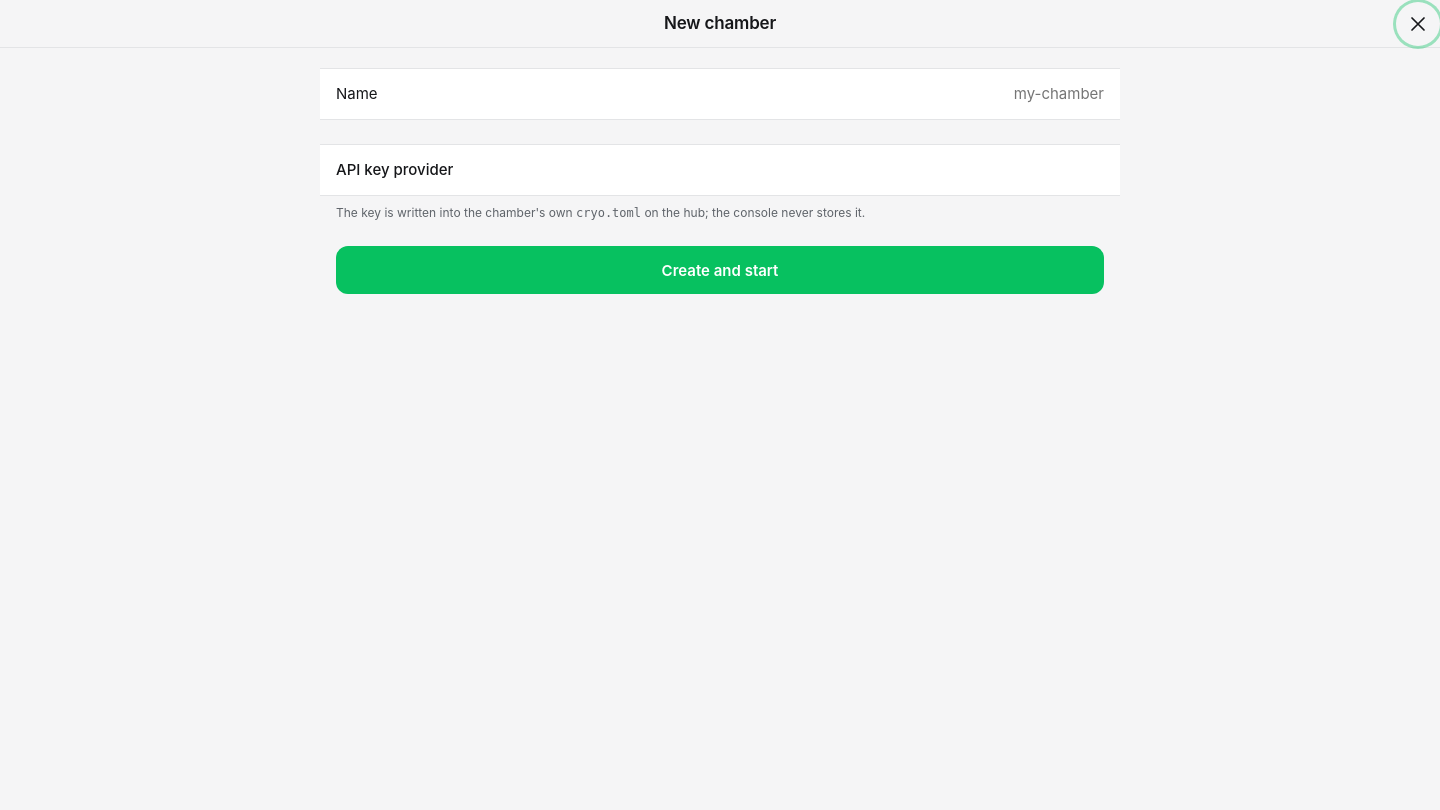
Test: an empty name is refused before any request
Click the button "Create and start" at (720, 270), box [336,246,1104,294]
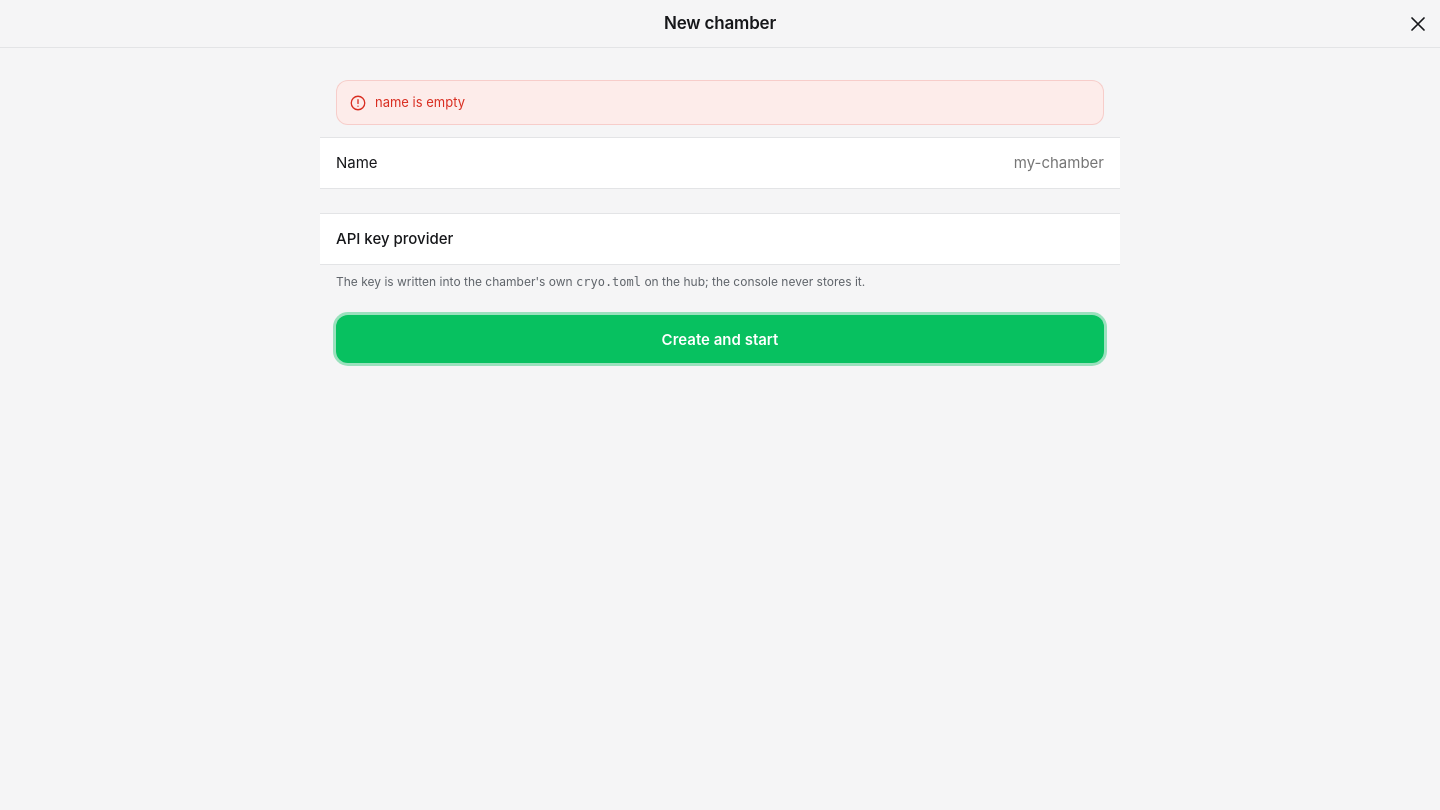
Check: the message reads "name is empty", box [375,94,465,110]
